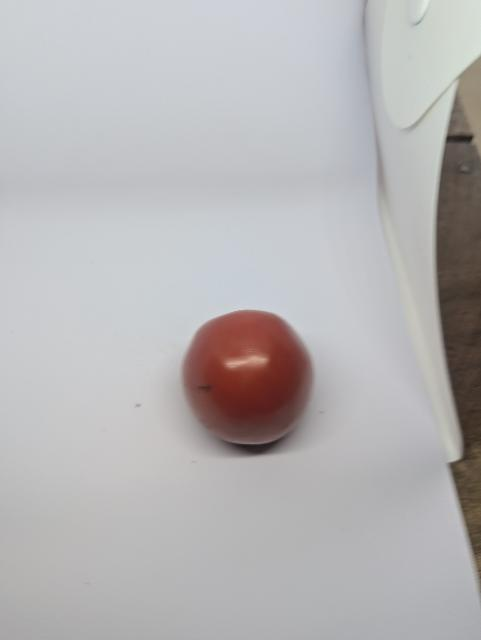red: (177, 304, 328, 458)
